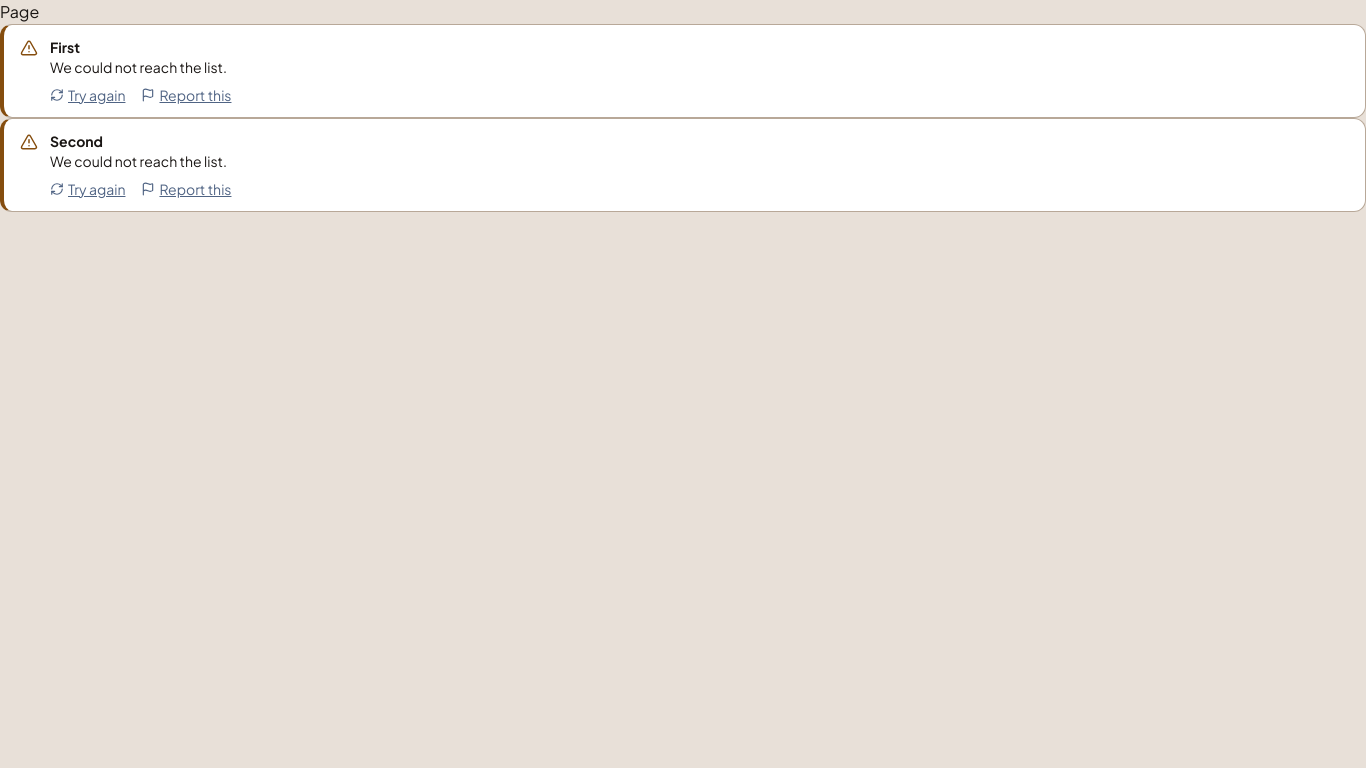
Scenario: the report form outlives the banner (plan 88.6.1-69) › RP-6. two banners on one page open ONE form, carrying the pressed banner subject
The width and height of the screenshot is (1366, 768).
Click the button "Report this" below "Second".
click(186, 189)  # box [142,179,232,199]
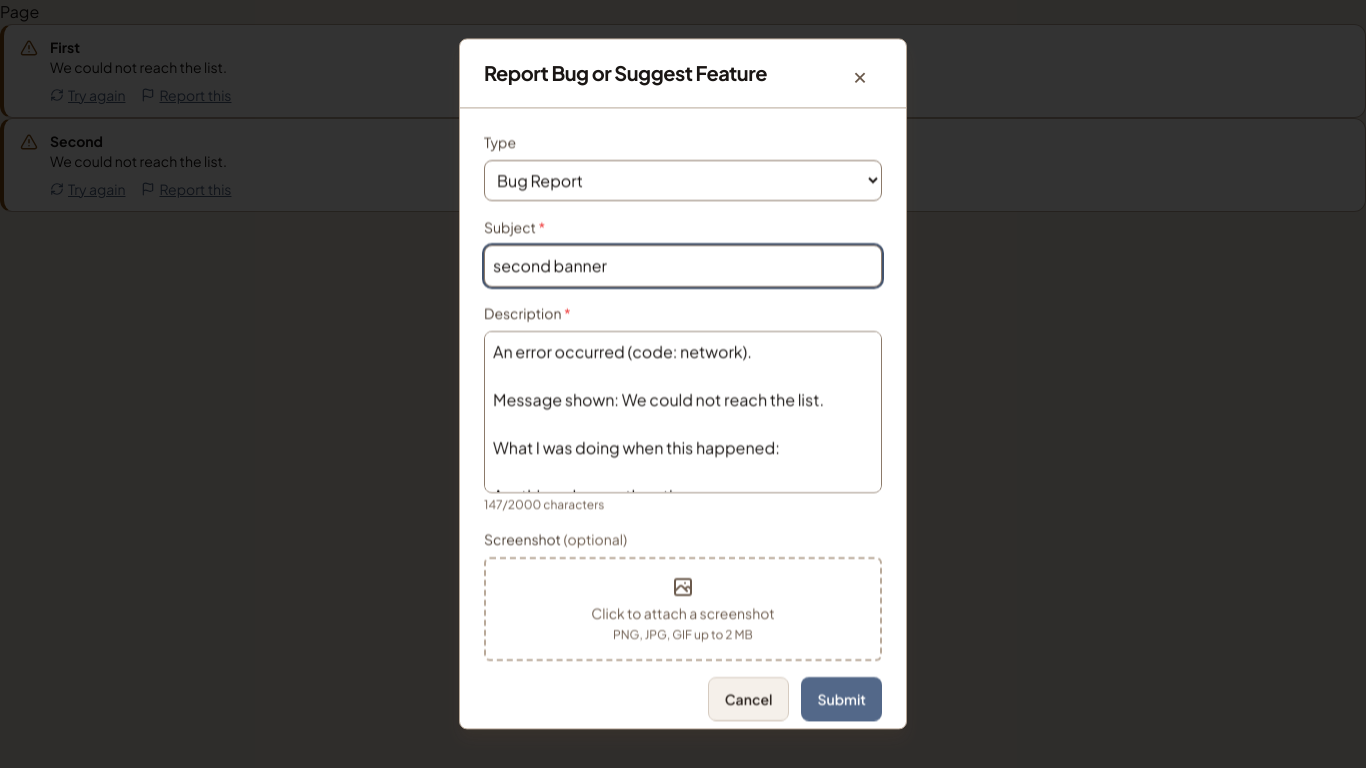
Result: the number of dialogs is 1 at [459,38,907,730]
Result: the field labelled "Subject *" holds "second banner" at [484,245,882,287]
